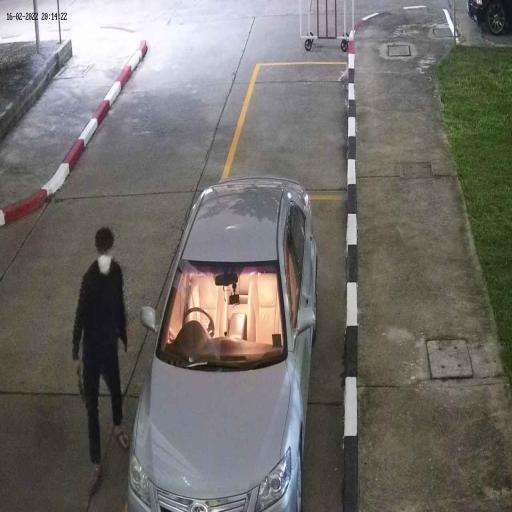car: (127, 176, 320, 512)
